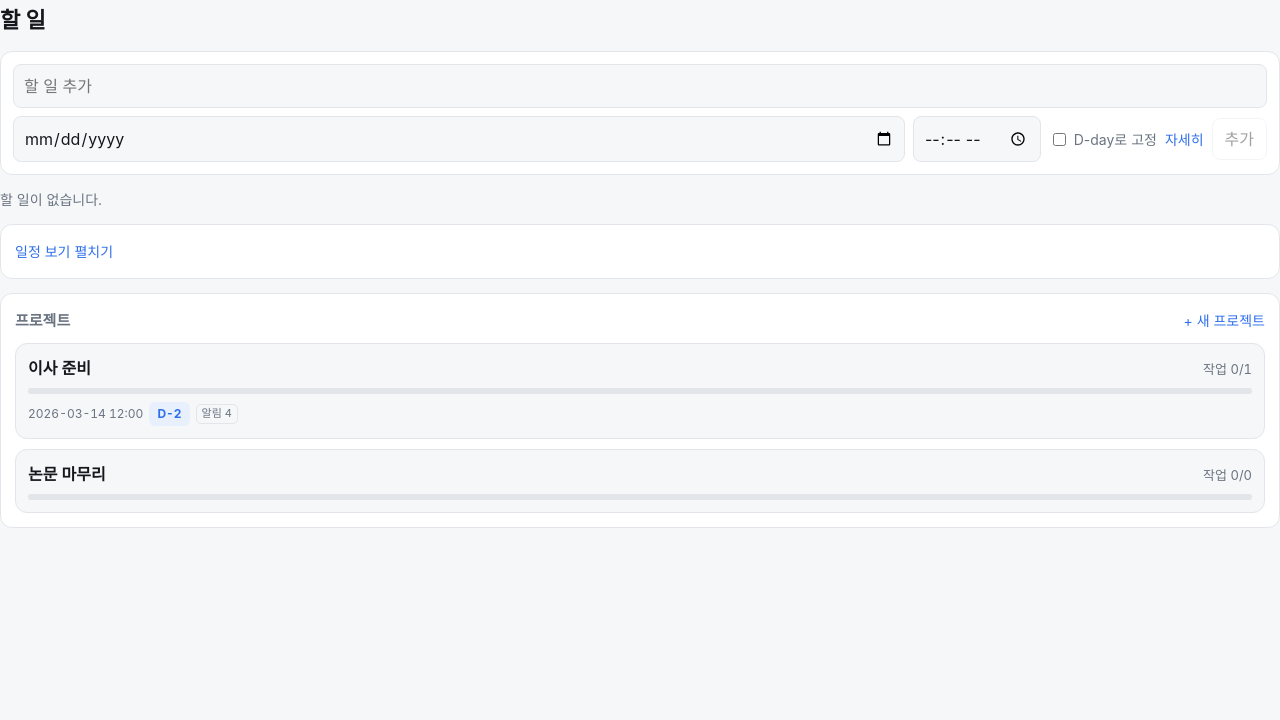
프로젝트 상세 주소 › 목록 버튼도 주소를 목록으로 되돌린다
Click the button "이사 준비 작업 0/1 2026-03-14 12:00 D-2 알림 4".
click(640, 391)  # box [15,343,1265,439]
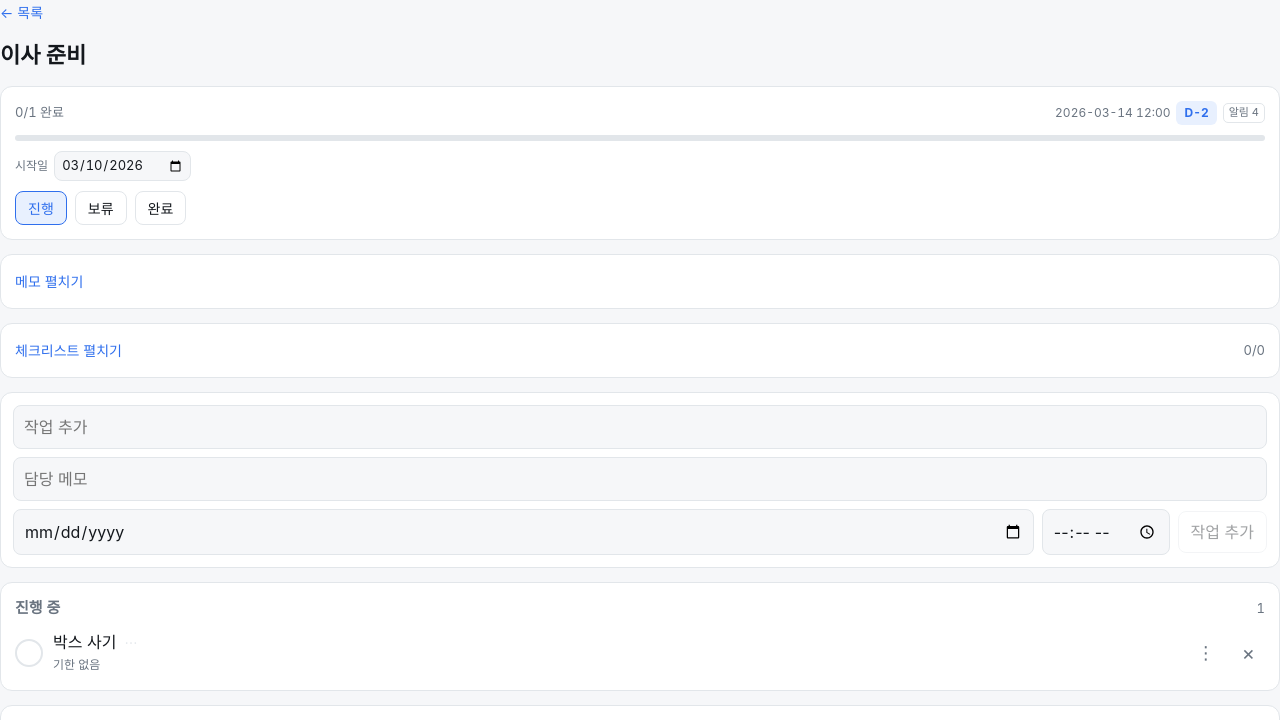
Click the button "← 목록".
click(22, 12)  # box [0,0,43,25]
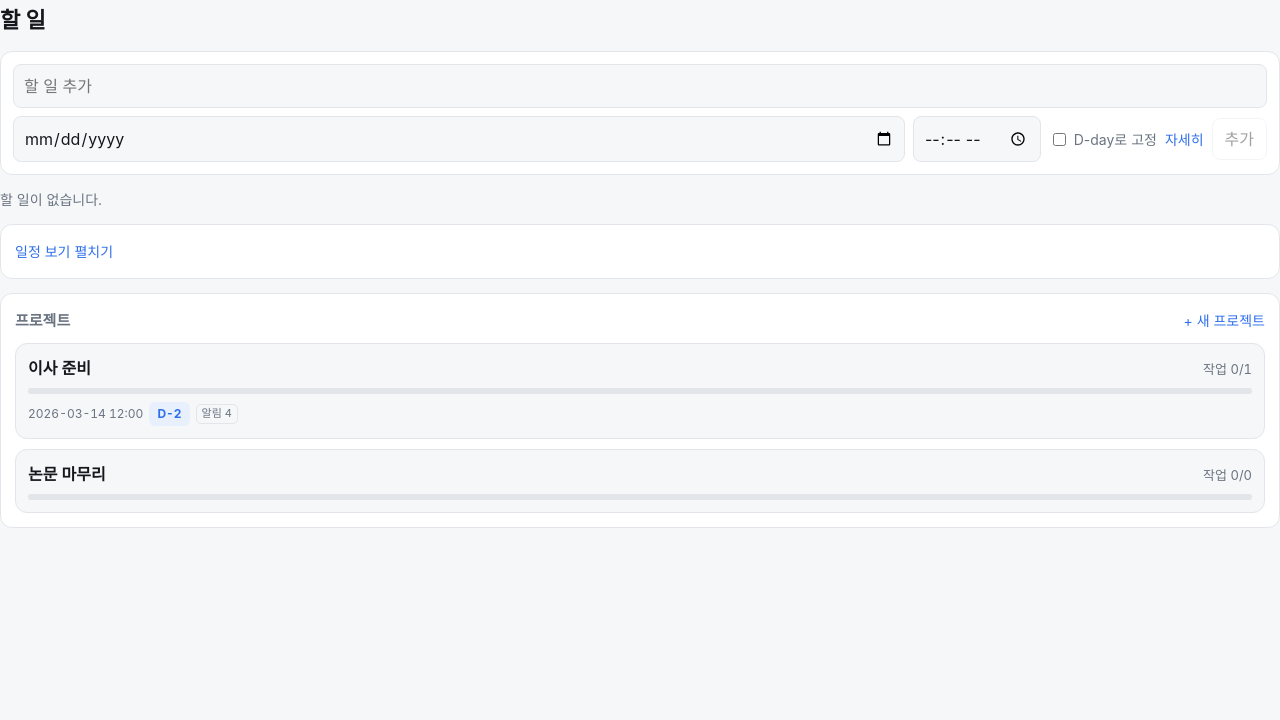
Result: the field named "할 일 제목" is shown at [13,64,1267,108]
